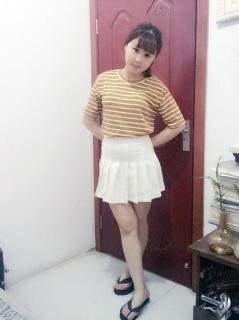short sleeve top: (83, 69, 187, 139)
skirt: (95, 132, 166, 204)
